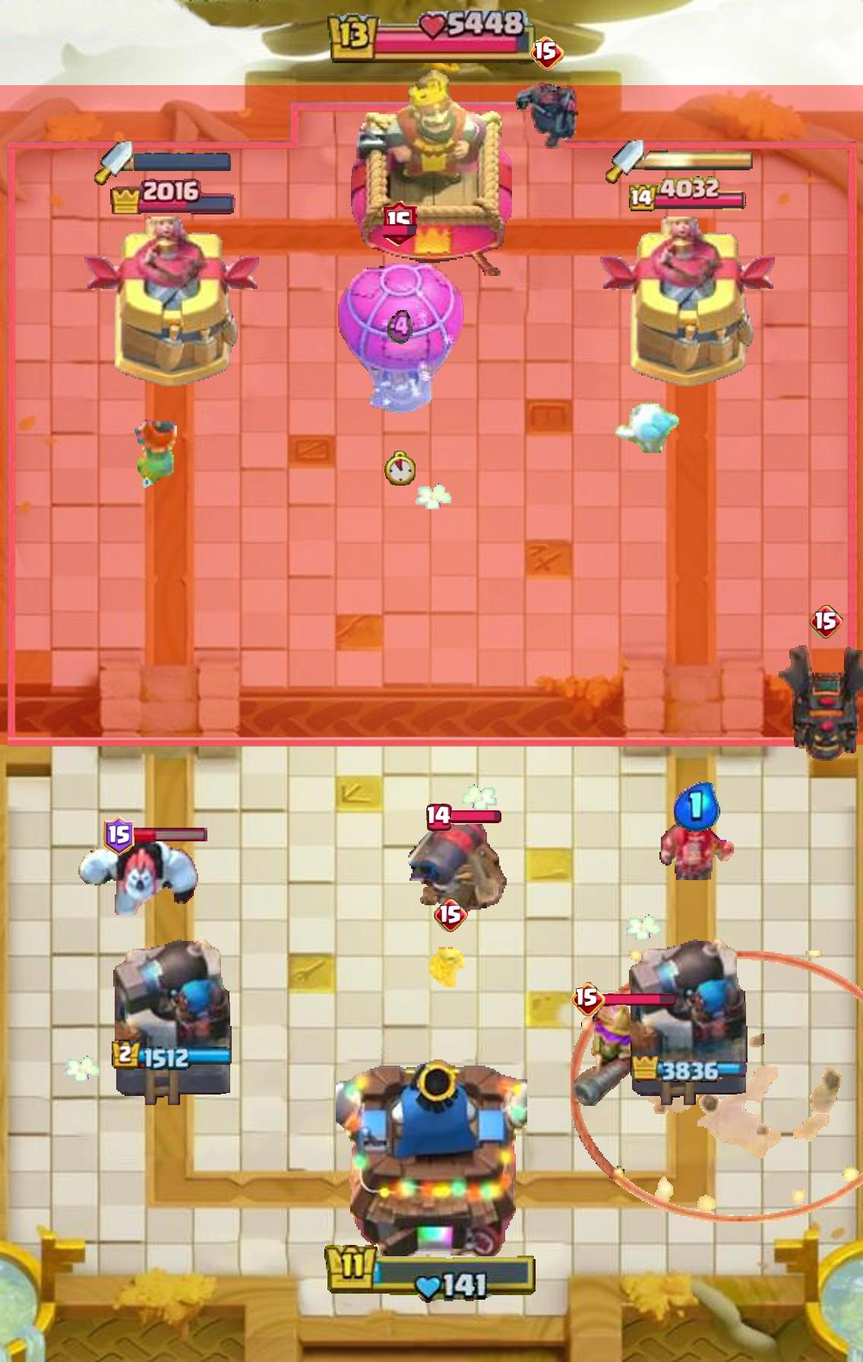bar: (131, 827, 208, 844), (602, 993, 676, 1007), (449, 811, 502, 825)
bar-level: (383, 201, 417, 246), (103, 816, 134, 856), (529, 36, 564, 71), (809, 605, 844, 639), (571, 982, 605, 1017), (434, 898, 468, 932), (426, 804, 452, 832)
